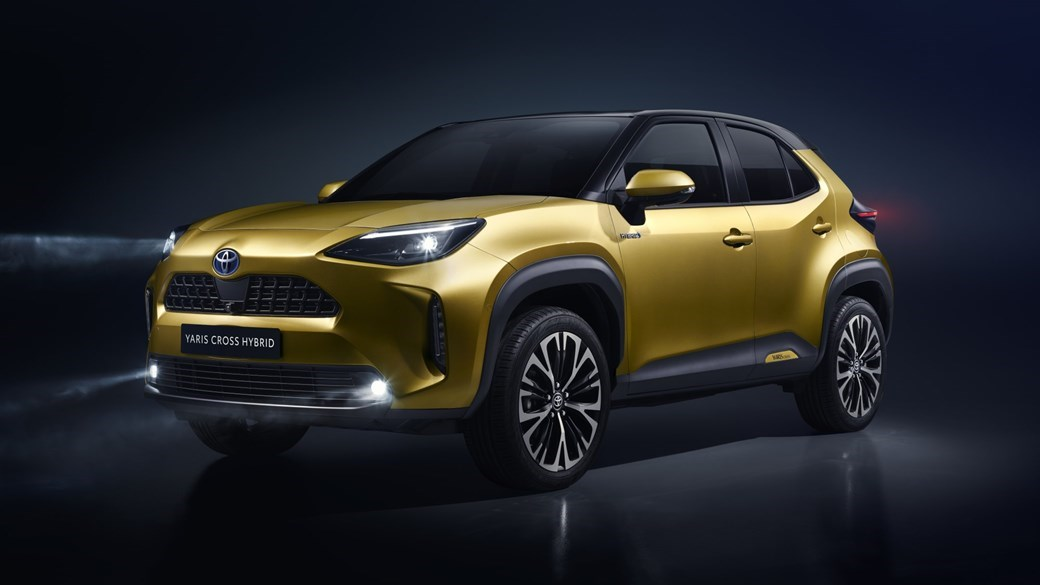car: (144, 108, 895, 490)
